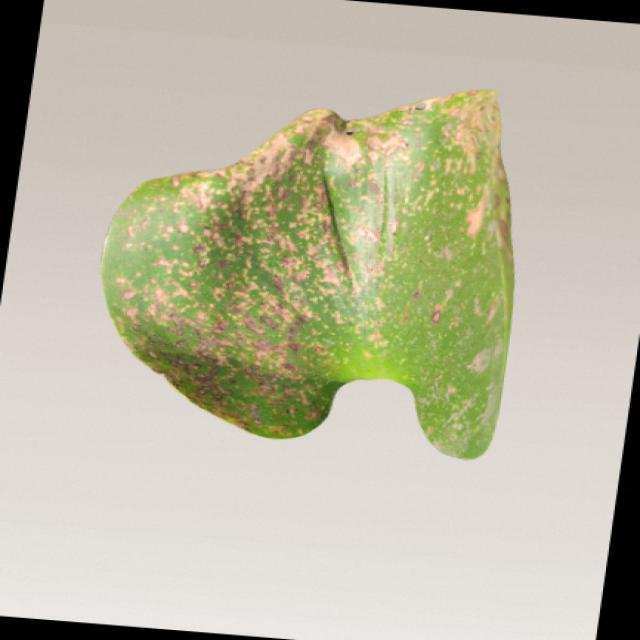daun berpenyakit bercak: (105, 90, 513, 458)
